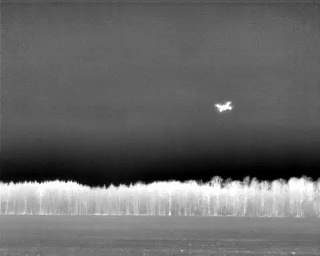DRONE: (211, 96, 237, 117)
